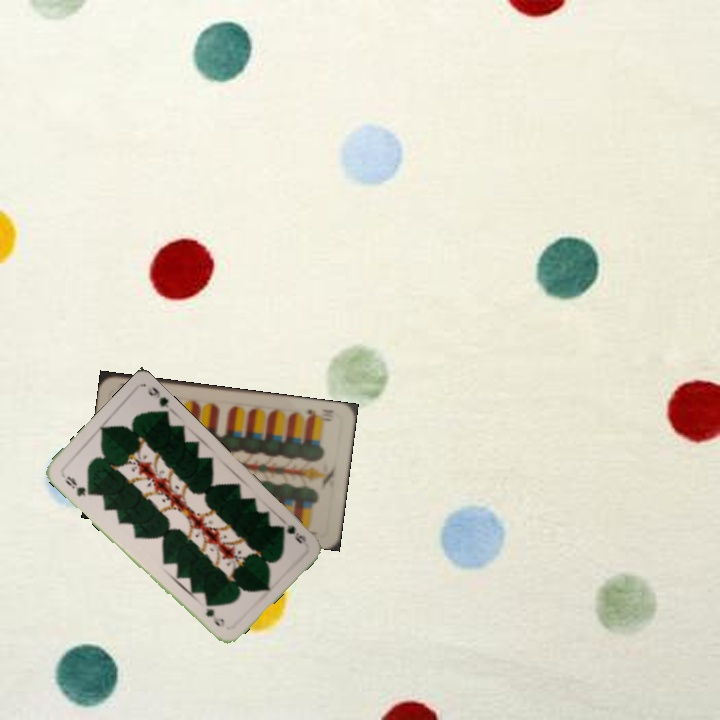E10: (302, 405, 336, 420)
G9: (273, 520, 309, 546), (61, 472, 93, 499)
